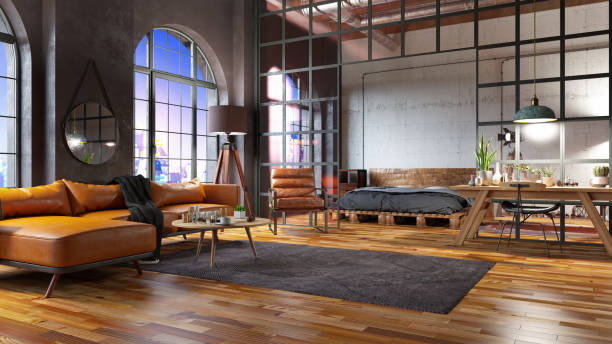chair: (267, 166, 331, 235)
floor lamp: (205, 102, 253, 219)
small plant: (471, 133, 498, 184), (590, 165, 610, 188)
sofa: (0, 177, 243, 299)
table: (170, 210, 270, 270)
